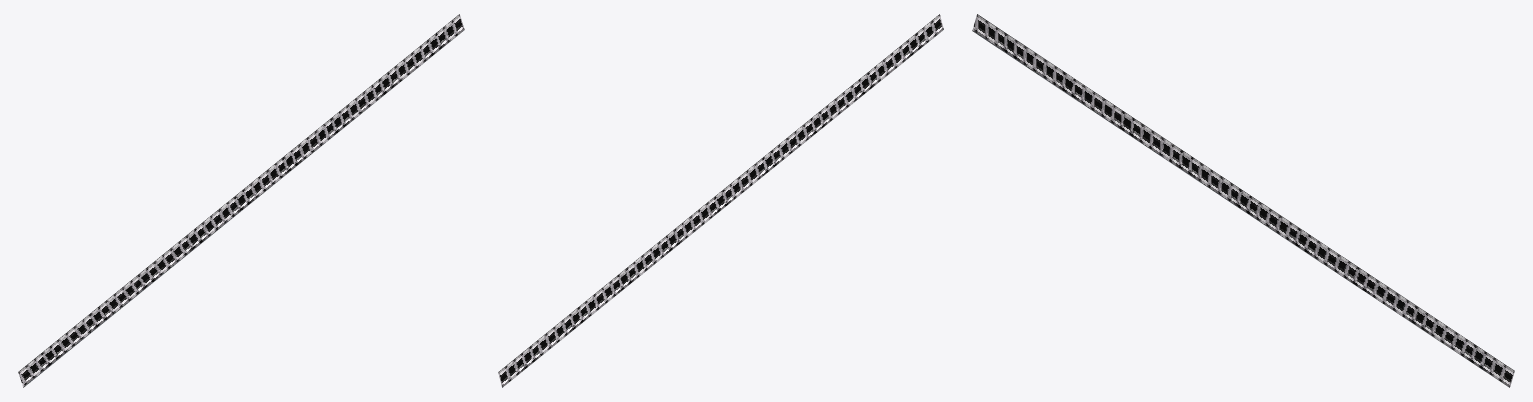
3 views of the same model, side by side, from view 1: azimuth 30°, elevation 25°; view 2: azimuth 210°, elevation 25°; view 3: azimuth 270°, elevation 25° (orthographic). The views are drawn at different scales.
Visible parts, largest first — view 1: Cylinder16; view 2: Cylinder16; view 3: Cylinder16.
Part boxes in pixels (x1,y1,x2,y2): Cylinder16: [18, 14, 464, 387]; Cylinder16: [498, 14, 943, 387]; Cylinder16: [972, 14, 1514, 387].
Size of the model in its own units: 322 by 6.54 by 207.
1 material, 1 textured.
